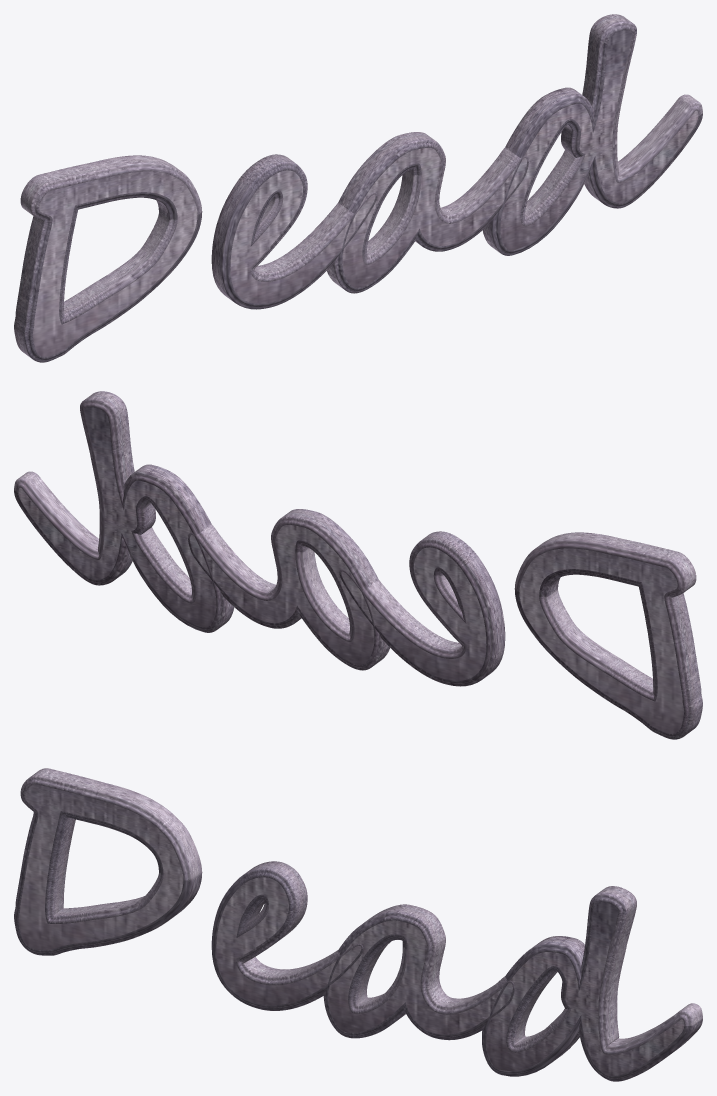
File: Dead_Text.fbx
3 views of the same model, one above another, from view 1: azimuth 30°, elevation 25°; view 2: azimuth 150°, elevation 25°; view 3: azimuth 330°, elevation 25° (orthographic).
Parts seen in each view (by area): view 1: polySurface10; view 2: polySurface10; view 3: polySurface10.
Boxes of the visible parts, x1,y1,x2,y2 form: polySurface10: (14,14,702,362); polySurface10: (14,391,702,739); polySurface10: (14,768,702,1081).
Bounding box in the file's own units: 10.3 × 3 × 0.3825.
